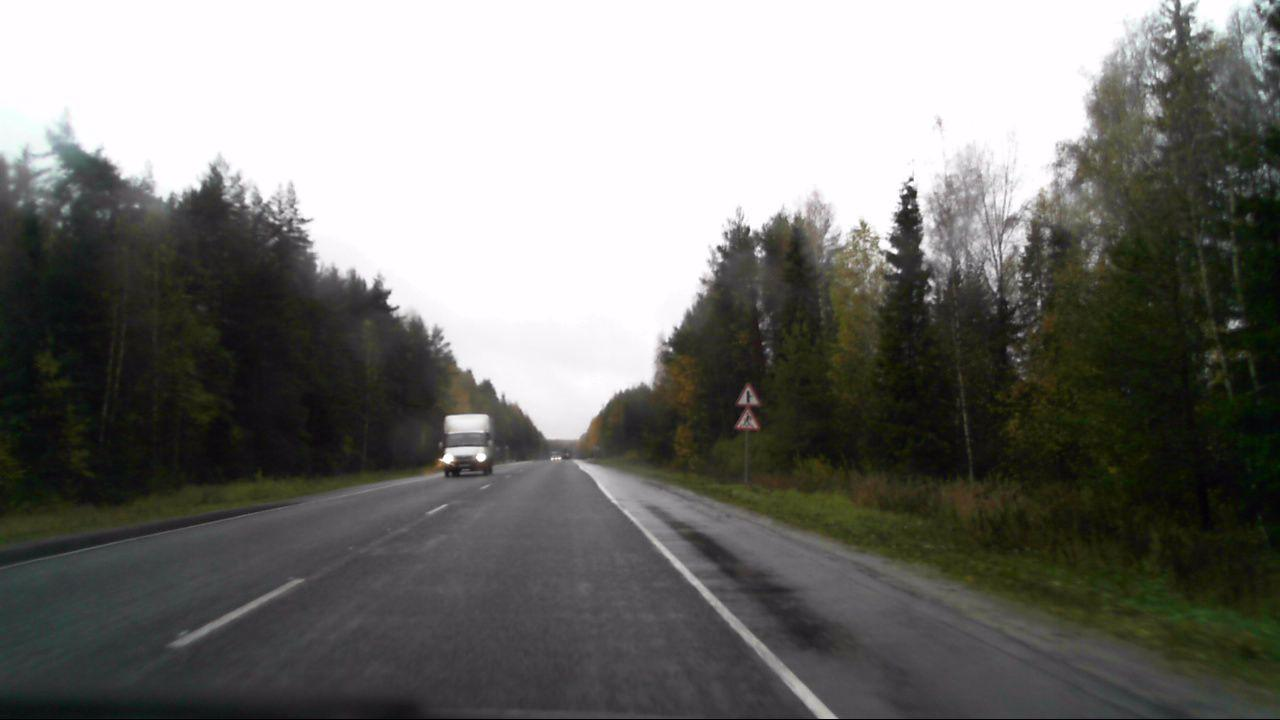road_sign: (730, 381, 766, 408), (732, 404, 765, 431)
